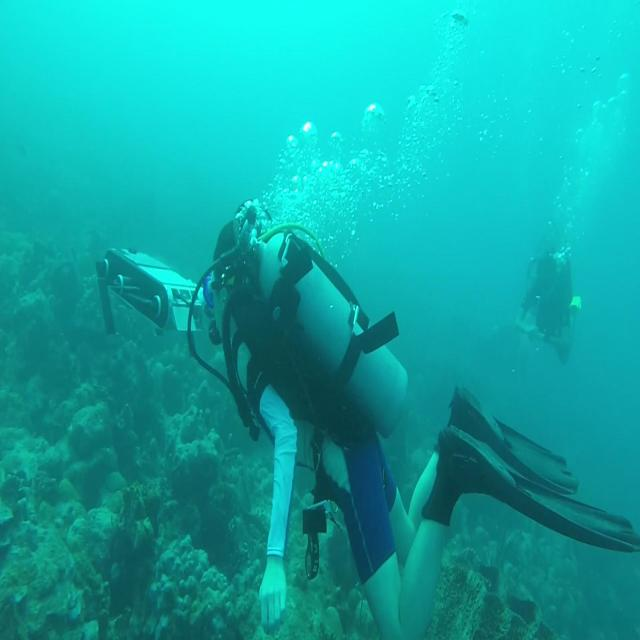human: (96, 200, 638, 638), (518, 239, 581, 364)
